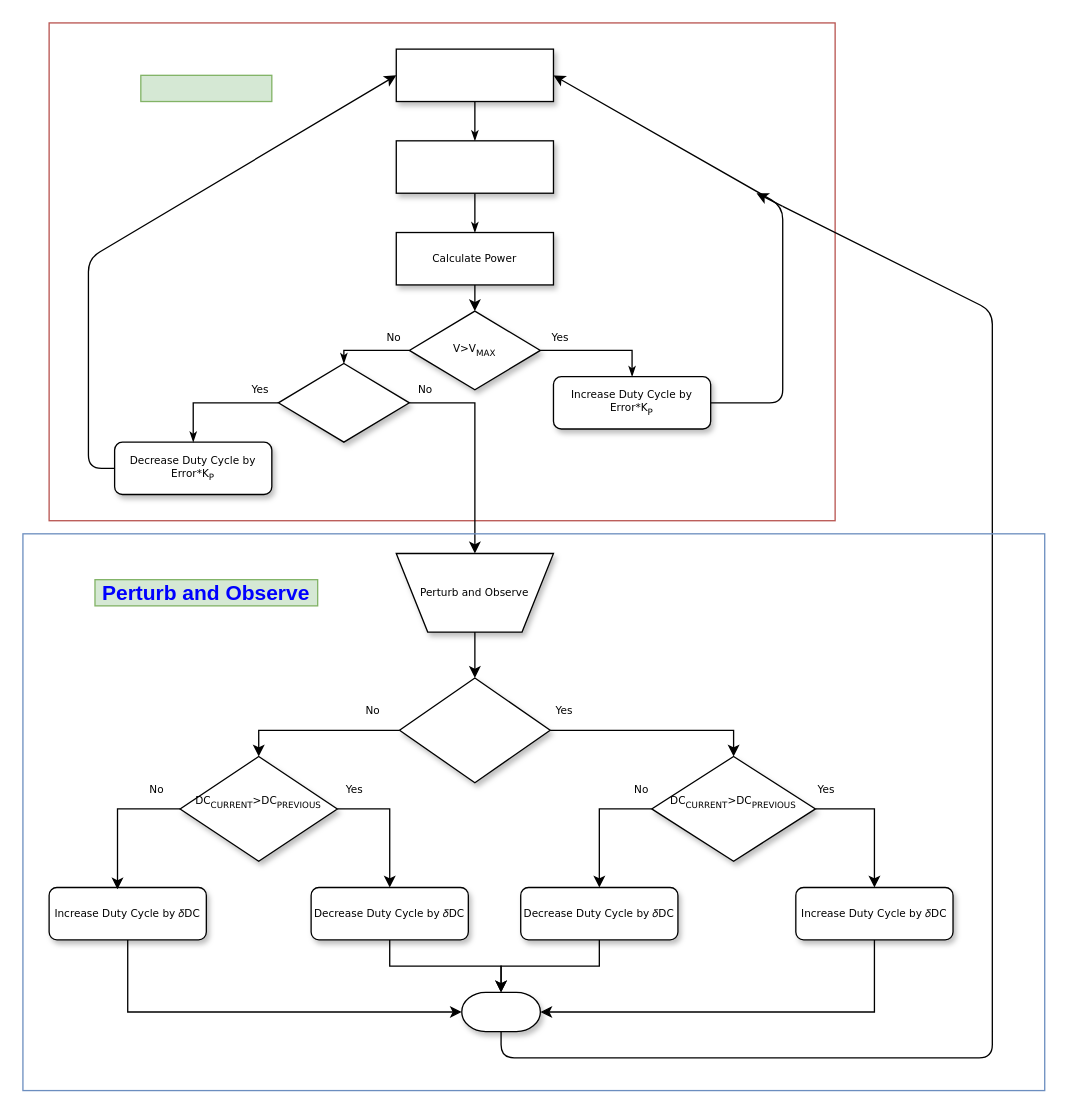
The diagram is 1068 pixels wide and 1114 high, and some of its shapes have lost their labels. The centre of each missing label's shape, as x and y in pixels:
"End" goes at (x=501, y=1013).
"Measure V and I" goes at (x=475, y=168).
"P Controller" goes at (x=206, y=88).
"P CURRENT >P PREVIOUS" goes at (x=475, y=731).
"Start" goes at (x=475, y=77).
"V<V MIN" goes at (x=344, y=404).
